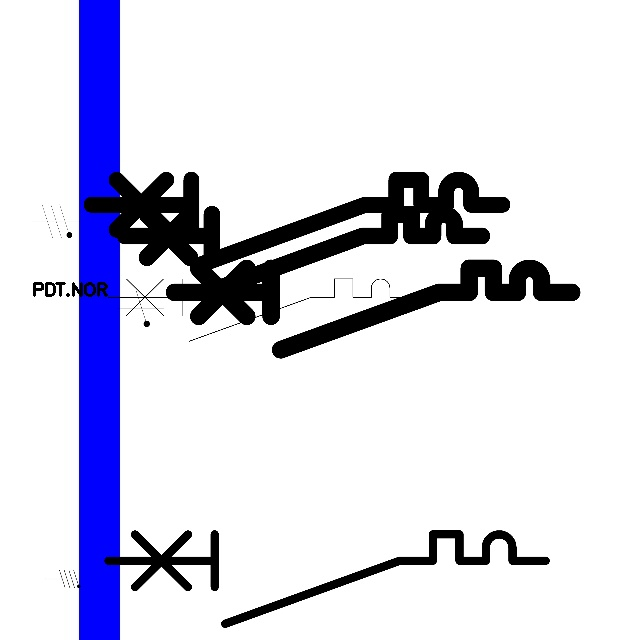interruptor_termomagnetico: (97, 523, 557, 635), (80, 169, 512, 274), (164, 258, 581, 360), (116, 205, 491, 297), (100, 271, 421, 349)
